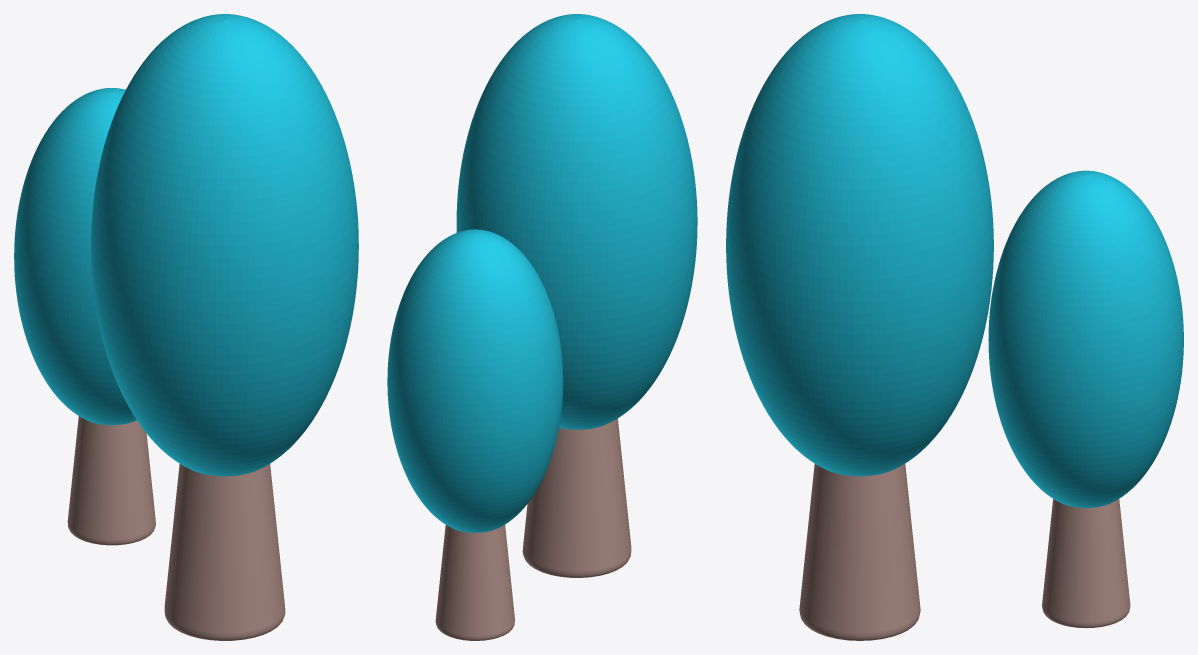
Rendered from blueM.fbx.
The picture shows the model from 3 angles, left to right: view 1: azimuth 30°, elevation 25°; view 2: azimuth 150°, elevation 25°; view 3: azimuth 270°, elevation 25°; orthographic projection. The views are drawn at different scales.
Visible parts, largest first — view 1: Sphere.002; view 2: Sphere.002; view 3: Sphere.002.
Part boxes in pixels (x1,y1,x2,y2): Sphere.002: (14,14,358,640); Sphere.002: (387,14,697,640); Sphere.002: (726,14,1183,640).
Bounding box in the file's own units: 123 × 302 × 210.
